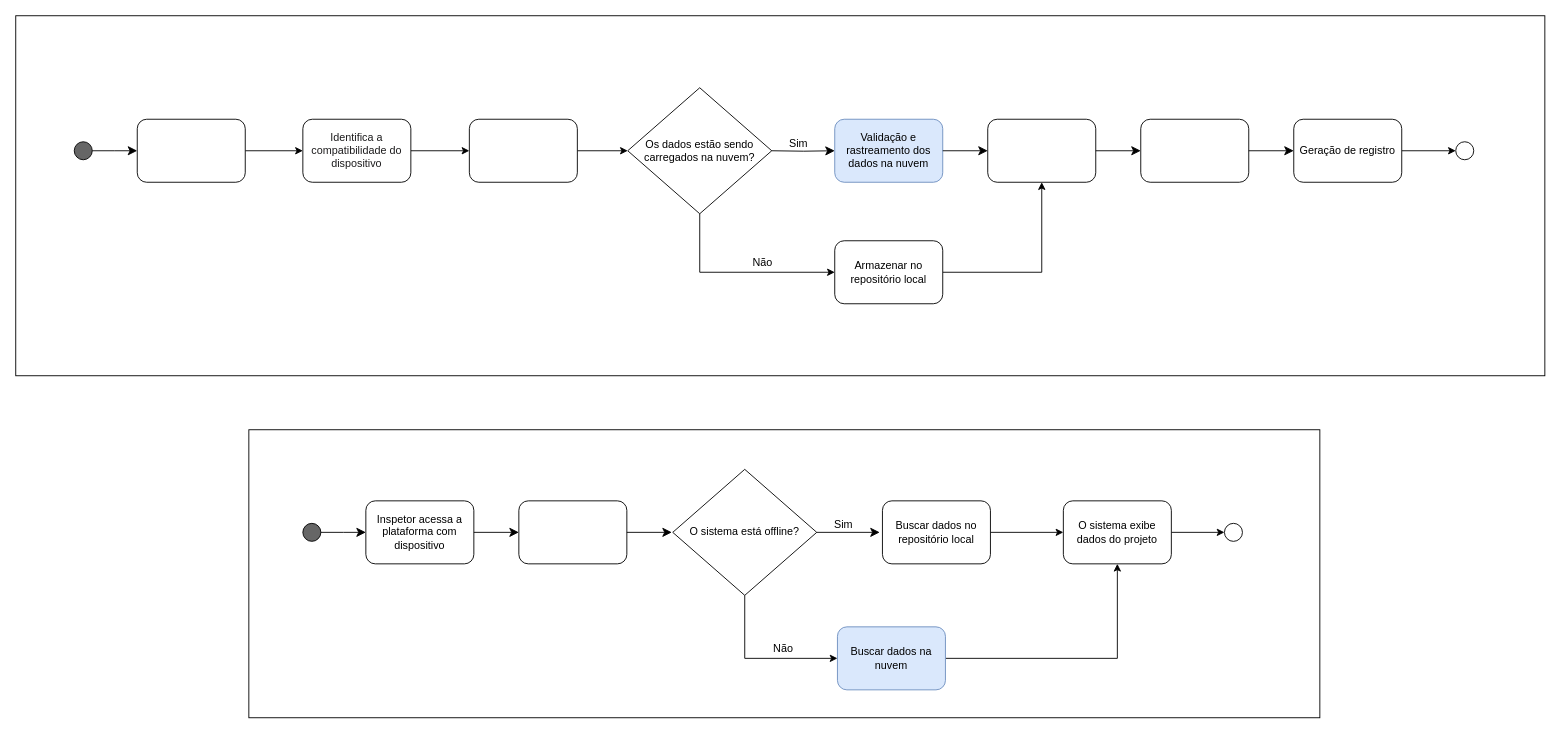
The diagram is 1561 pixels wide and 734 high, and some of its shapes have lost their labels. Each missing label, with the centre of its shape:
Colaboração e integração com a plataforma: the point at 1194,150
Dispositivo captura imagens e dados (offline/online): the point at 190,150
O inspetor realiza o upload dos dados: the point at 522,150
O inspetor seleciona um projeto: the point at 572,532
Processamento de dados: the point at 1041,150
